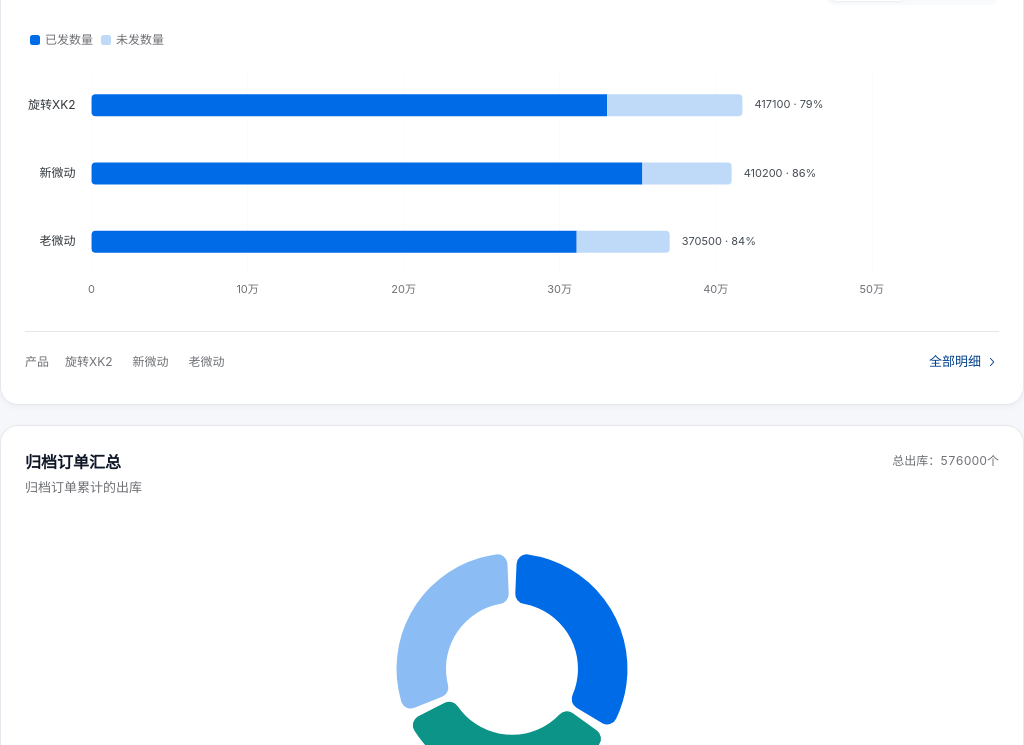
Test: 产品明细信息密度：标准只留编码，紧凑收起，宽松补规格全文
The width and height of the screenshot is (1024, 745).
(page scrolled)
Click the button "新微动": click(151, 362) [125,344,177,380]
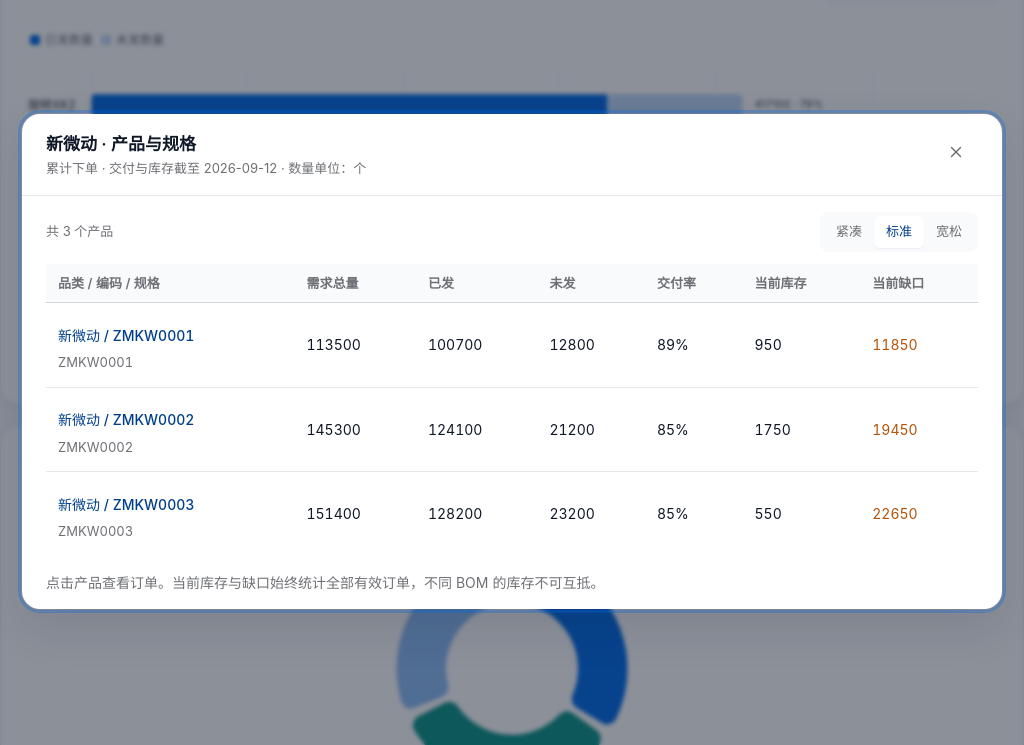
Expected: the text "底座：二脚底座（无挡脚） · 支架：6.3支架：铜镀银" is not shown
Result: the text "ZMKW0001" is shown at [58,354,133,370]
Click the button "紧凑": click(849, 232) [824,216,874,248]
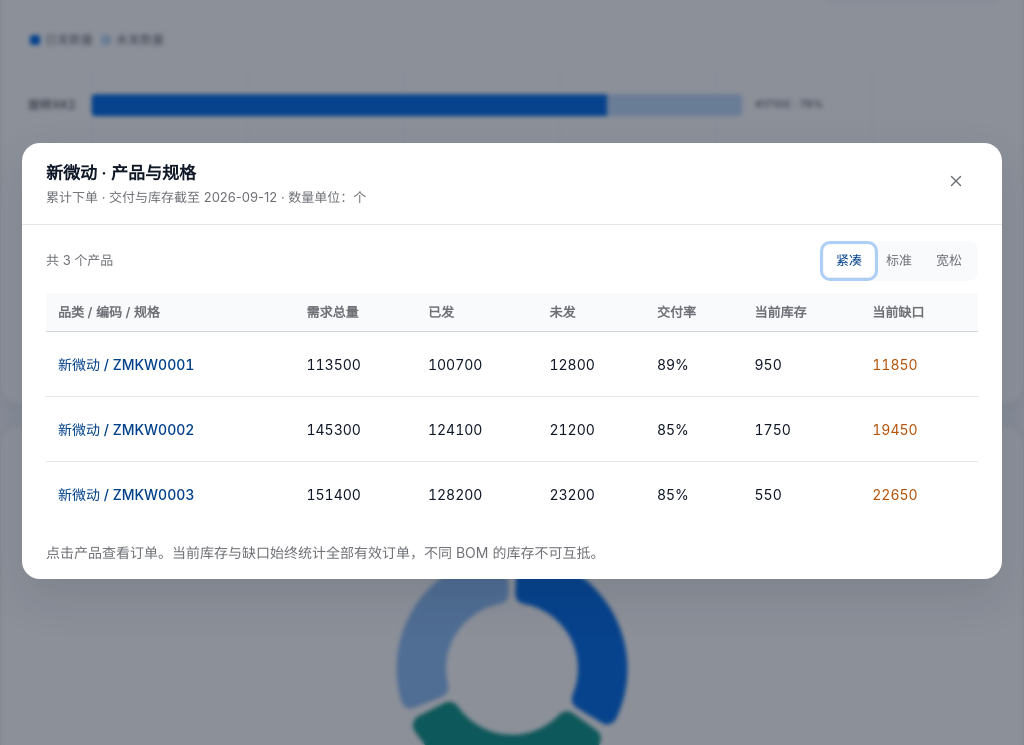
Click the button "宽松": click(949, 261) [924,245,974,277]
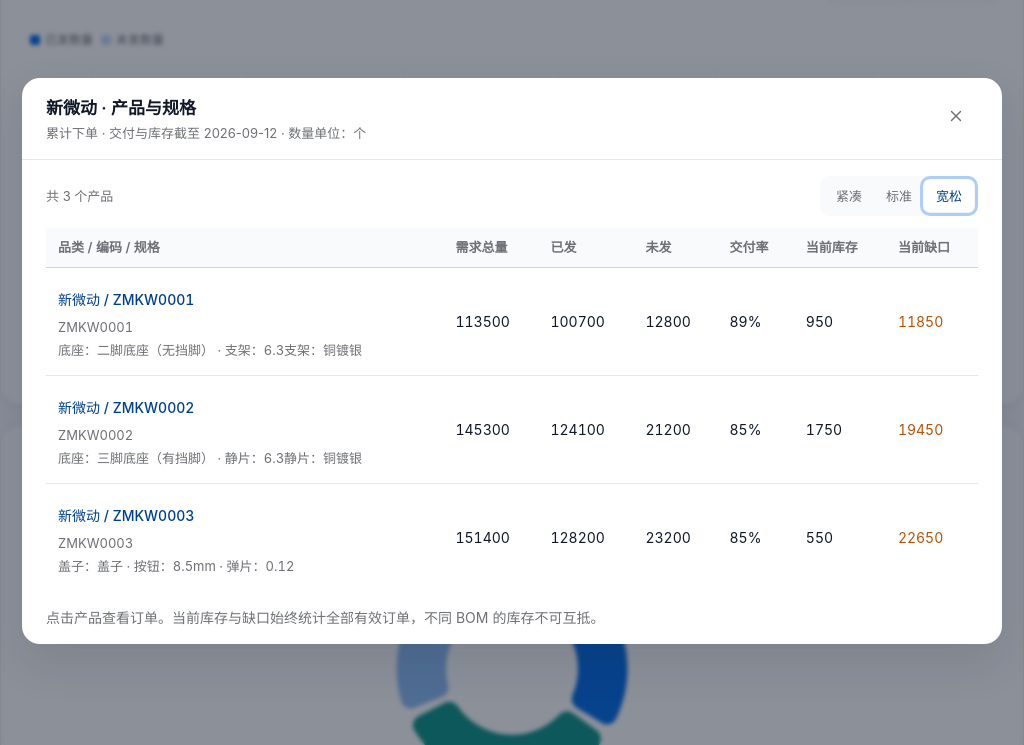
Result: the text "底座：二脚底座（无挡脚） · 支架：6.3支架：铜镀银" is shown at [58,342,362,358]
Result: the text "ZMKW0001" is shown at [58,319,133,335]
